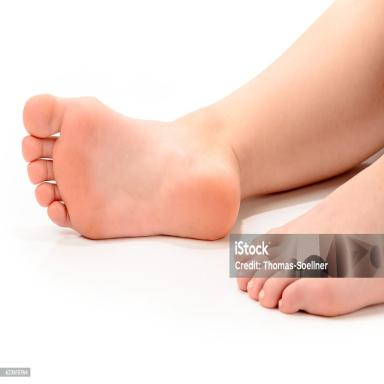normal skin: (22, 2, 384, 240), (272, 154, 384, 233), (238, 279, 384, 315)
